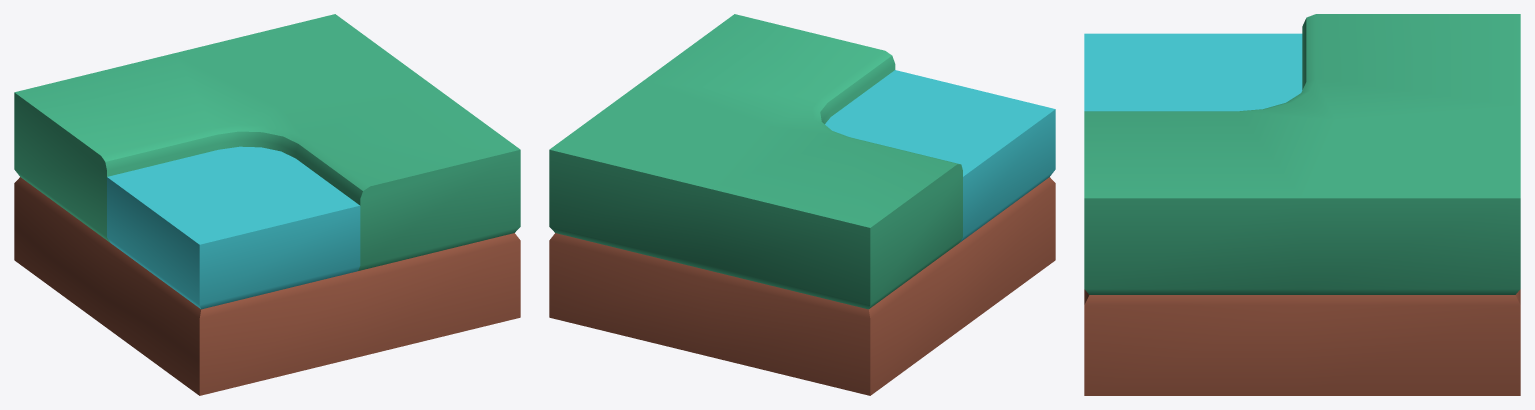
The model's file is square_forest_waterInnerCorner.glb.
3 views of the same model, side by side, from view 1: azimuth 30°, elevation 25°; view 2: azimuth 150°, elevation 25°; view 3: azimuth 270°, elevation 25° (orthographic). The views are drawn at different scales.
Parts seen in each view (by area): view 1: square_forest_waterInnerCorner; view 2: square_forest_waterInnerCorner; view 3: square_forest_waterInnerCorner.
Boxes of the visible parts, x1=… form: square_forest_waterInnerCorner: x1=14, y1=14, x2=520, y2=395; square_forest_waterInnerCorner: x1=549, y1=14, x2=1055, y2=395; square_forest_waterInnerCorner: x1=1084, y1=14, x2=1520, y2=395.
Bounding box in the file's own units: 3.82 × 1.91 × 3.82.
